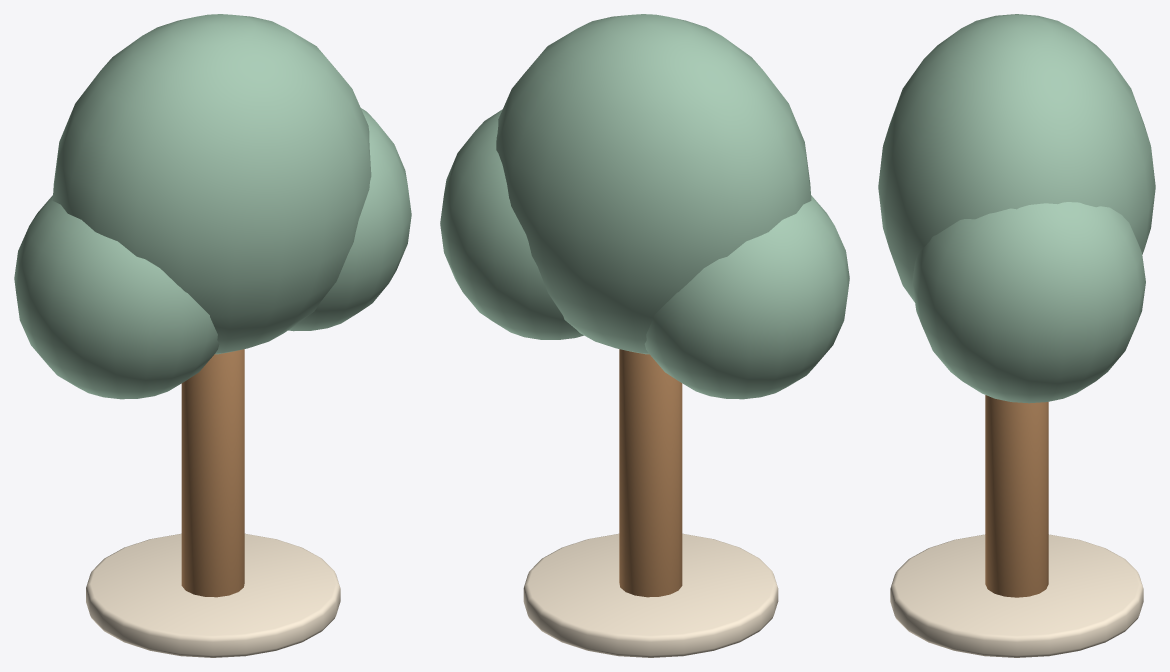
Rendered from garden-tree.glb.
3 views of the same model, side by side, from view 1: azimuth 30°, elevation 25°; view 2: azimuth 150°, elevation 25°; view 3: azimuth 270°, elevation 25° (orthographic).
Visible parts, largest first — view 1: AssetSurface; view 2: AssetSurface; view 3: AssetSurface.
Boxes of the visible parts, x1,y1,x2,y2 form: AssetSurface: (14,14,411,657); AssetSurface: (440,14,849,657); AssetSurface: (878,14,1155,657).
Size of the model in its own units: 1.76 by 2.62 by 1.14.
